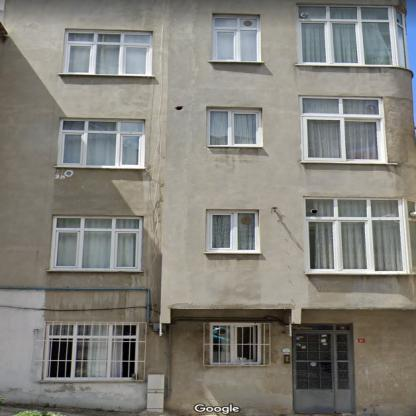door: (294, 332, 352, 412)
window: (304, 199, 404, 271), (299, 5, 406, 67), (46, 324, 138, 380), (301, 97, 380, 161), (55, 218, 140, 268), (60, 119, 144, 167), (65, 31, 150, 75), (214, 17, 258, 62), (210, 212, 256, 251), (209, 110, 258, 145), (212, 326, 256, 362), (292, 325, 349, 330)
